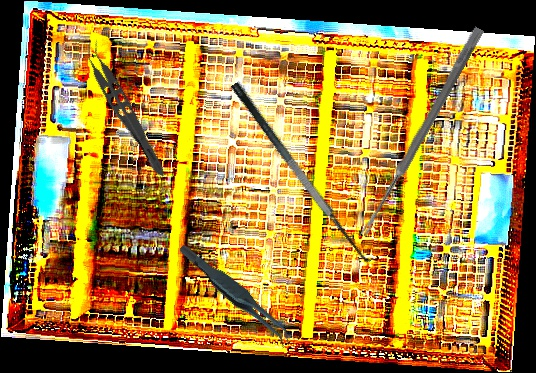Spatula Surgical: (228, 70, 383, 271)
Surgical Spoon: (358, 25, 485, 239)
Tissue Forceps: (178, 225, 294, 365), (76, 38, 178, 181)
